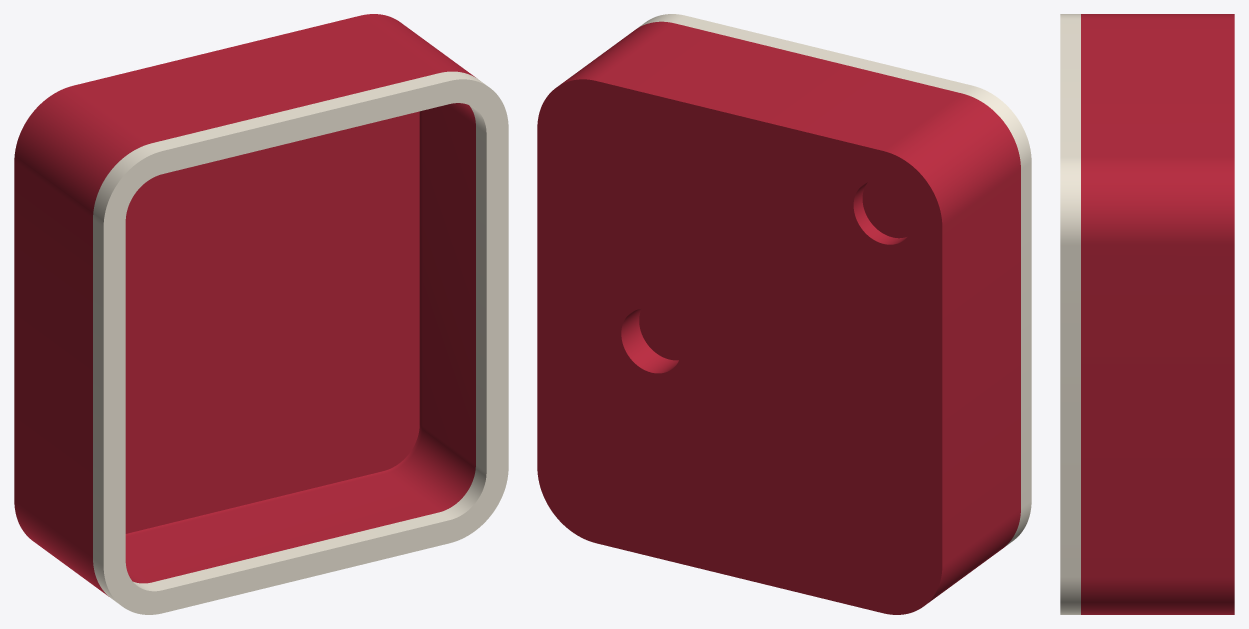
3 renders of one model, left to right at view 1: azimuth 30°, elevation 25°; view 2: azimuth 150°, elevation 25°; view 3: azimuth 270°, elevation 25°, orthographic. The views are drawn at different scales.
Visible parts, largest first — view 1: O01_ChristmasRed, O01_Snow; view 2: O01_ChristmasRed, O01_Snow; view 3: O01_ChristmasRed, O01_Snow.
Part boxes in pixels (x1,y1,x2,y2): O01_ChristmasRed: (14, 14, 475, 596); O01_Snow: (93, 71, 508, 614); O01_ChristmasRed: (537, 21, 1020, 614); O01_Snow: (638, 14, 1031, 546); O01_ChristmasRed: (1081, 14, 1234, 614); O01_Snow: (1060, 14, 1080, 614).
Size of the model in its own units: 55 by 60 by 21.
